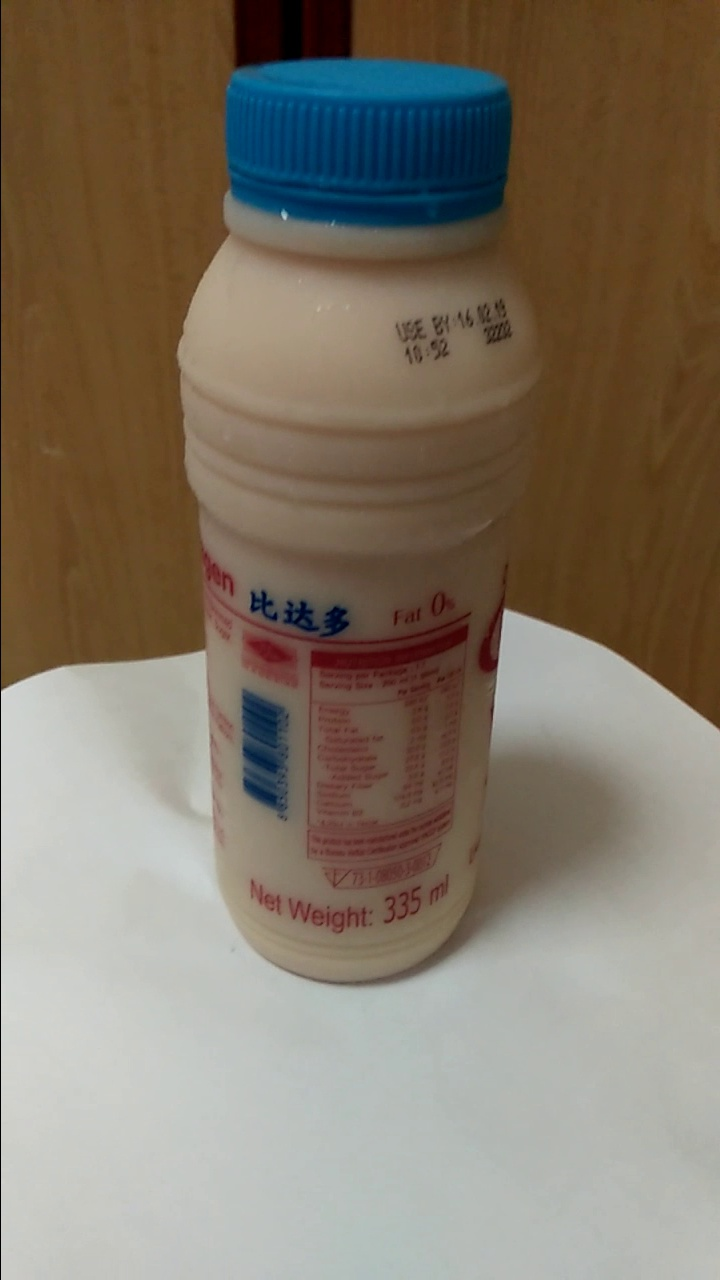mlik2: (186, 70, 509, 996)
